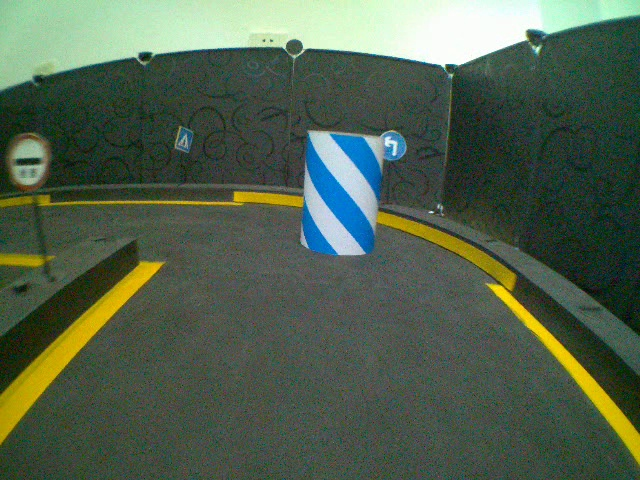bucket: (297, 130, 382, 257)
